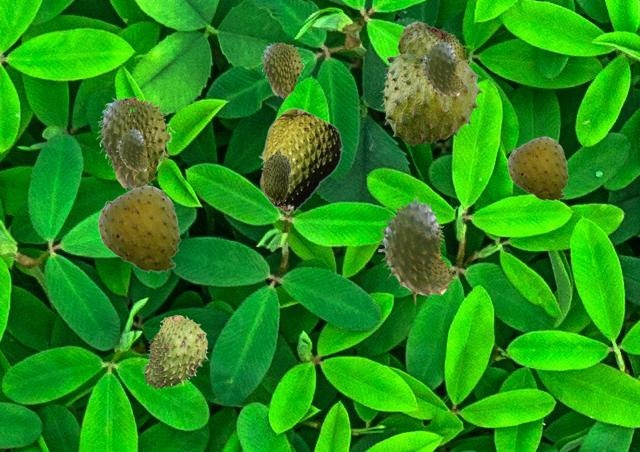guyabano: (380, 48, 482, 145), (258, 107, 342, 213), (378, 197, 453, 303), (96, 96, 174, 191), (96, 185, 180, 273), (141, 315, 207, 389), (506, 136, 568, 201), (420, 39, 463, 100), (398, 20, 465, 59), (260, 42, 305, 98), (261, 149, 291, 201), (116, 127, 149, 174)
